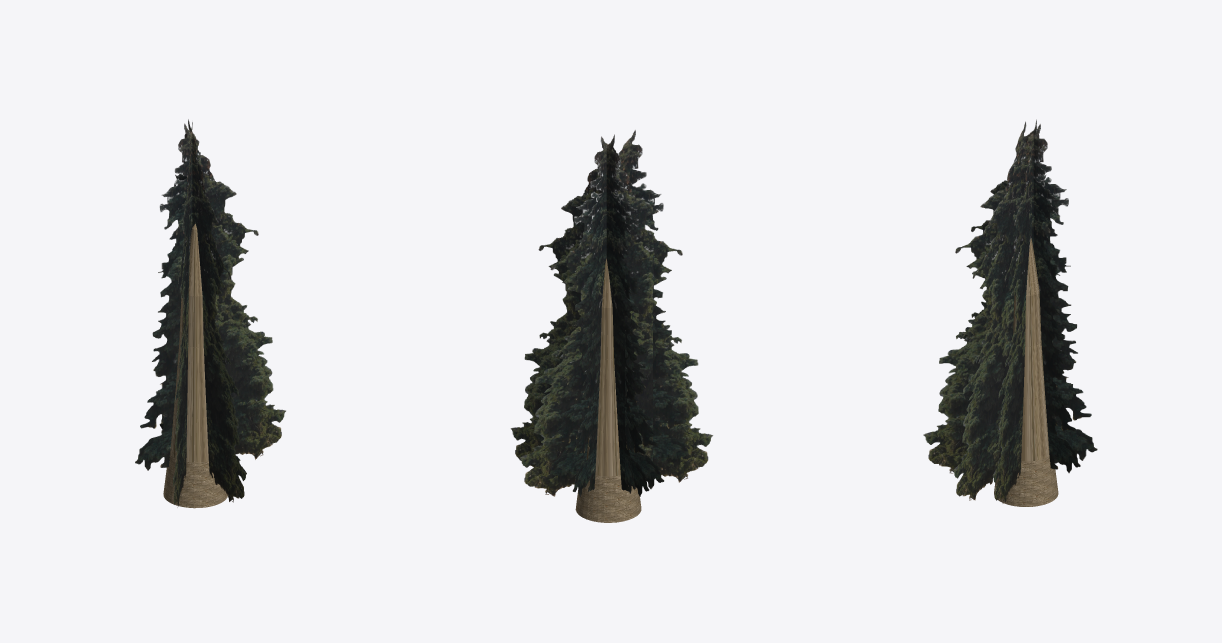
Rendered from spruce_tree.glb.
3 views of the same model, side by side, from view 1: azimuth 30°, elevation 25°; view 2: azimuth 150°, elevation 25°; view 3: azimuth 270°, elevation 25° (orthographic).
Parts seen in each view (by area): view 1: Cylinder; view 2: Cylinder; view 3: Cylinder.
Boxes of the visible parts, left/top/right/bottom form: Cylinder: left=135, top=119, right=285, bottom=508; Cylinder: left=510, top=130, right=712, bottom=522; Cylinder: left=923, top=119, right=1097, bottom=506.
Size of the model in its own units: 18.27 by 24.36 by 18.27.
7 materials, 7 textured.
